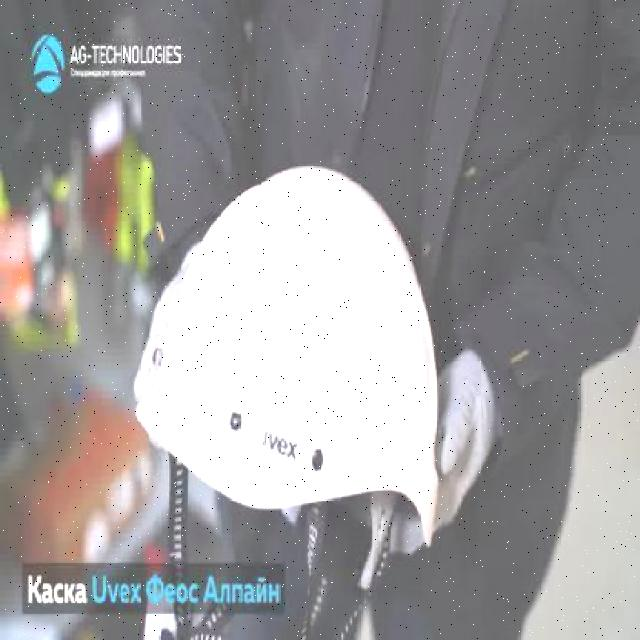Helmet: (132, 159, 440, 550)
